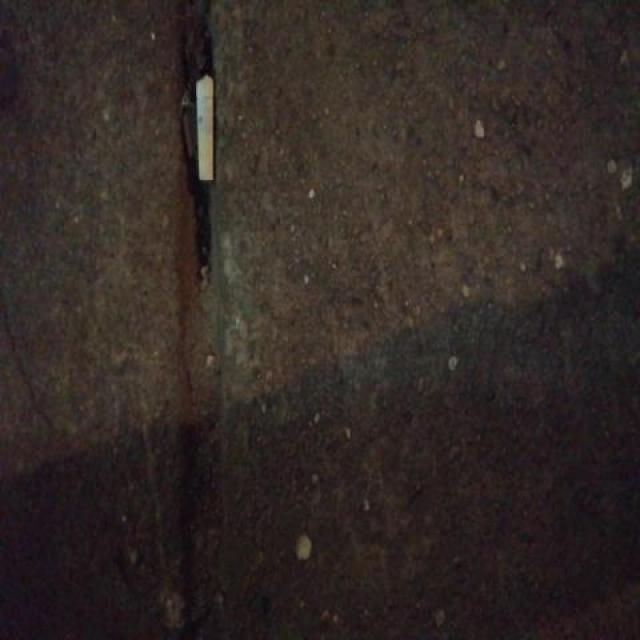non-organic waste: (192, 72, 219, 188)
